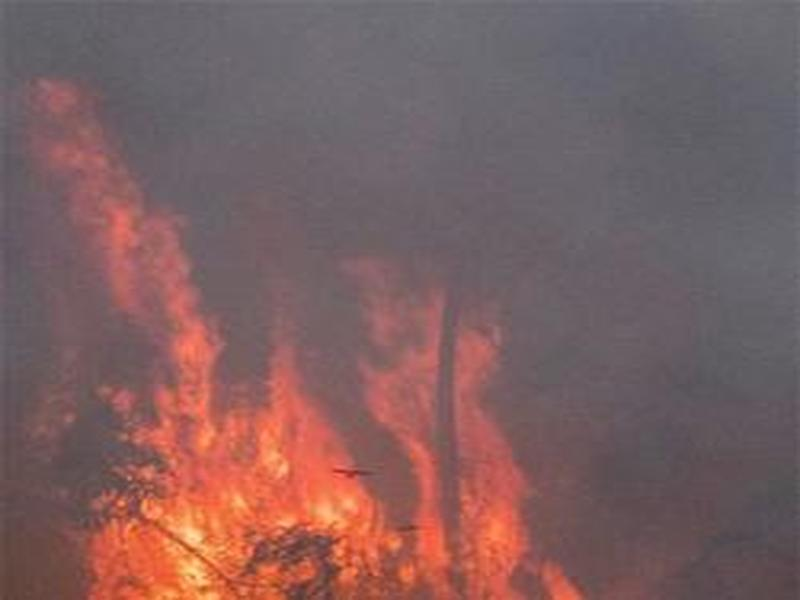FIRE: (54, 296, 550, 600)
